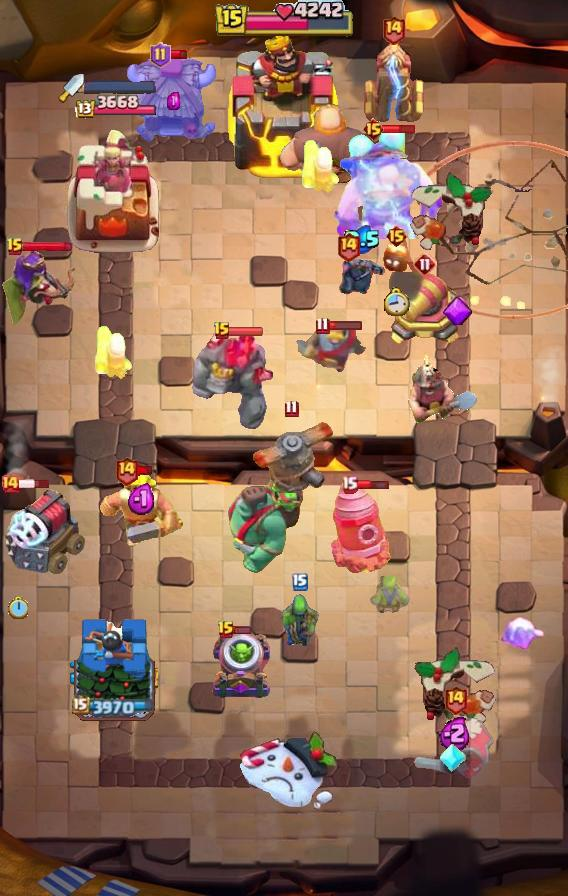balloon: (277, 102, 383, 192)
bandit: (406, 353, 477, 425)
bar: (64, 124, 164, 256)
barbarian-hut: (0, 247, 82, 331)
battle-ram: (337, 248, 387, 302)
bomber: (382, 242, 410, 274)
cannoneer-tower: (192, 329, 274, 431)
clock: (213, 0, 355, 40)
dark-prince: (246, 408, 336, 498)
electro-spirit: (439, 715, 473, 751), (343, 225, 381, 254), (127, 484, 157, 517), (168, 92, 180, 110)
elixir: (383, 288, 409, 317), (8, 596, 28, 619)
emote: (22, 240, 74, 253), (13, 478, 51, 490), (355, 478, 390, 491), (382, 123, 417, 135), (327, 320, 363, 331), (228, 327, 264, 338), (168, 49, 187, 60), (232, 625, 251, 635), (137, 465, 154, 476)
firecracker: (295, 322, 367, 375)
giant-snowball: (280, 592, 320, 650)
goblin-brawler: (359, 39, 427, 125)
goblin-cage: (210, 631, 274, 701)
goblin-hut: (98, 474, 186, 550)
golem: (0, 487, 86, 577)
guard: (401, 140, 568, 319)
king-tower: (226, 33, 342, 181)
king-tower-bar: (84, 80, 156, 94)
lava-hound: (223, 470, 307, 576)
little-prince: (333, 125, 445, 239)
magic-archer: (331, 480, 391, 574)
mirror: (496, 617, 546, 655)
mortar-evolution: (414, 710, 496, 780)
pad_2: (439, 742, 467, 774)
prince: (126, 55, 220, 145)
queen-tower: (70, 616, 158, 731)
royal-recruit: (386, 272, 464, 348)
selected: (72, 95, 155, 121), (71, 695, 156, 717)
skeleton-king-skill: (442, 297, 472, 325)
text: (335, 231, 360, 262), (444, 685, 469, 715), (382, 14, 406, 45), (114, 455, 138, 486), (413, 252, 437, 276), (363, 117, 386, 141), (384, 224, 407, 248), (149, 42, 170, 68), (0, 474, 20, 494), (6, 237, 24, 257), (213, 321, 231, 341), (217, 620, 235, 640), (341, 475, 359, 494), (292, 573, 308, 591), (314, 316, 329, 335), (285, 399, 300, 417)
tombstone: (300, 137, 342, 195), (93, 323, 135, 381)
zap: (366, 576, 410, 618)
